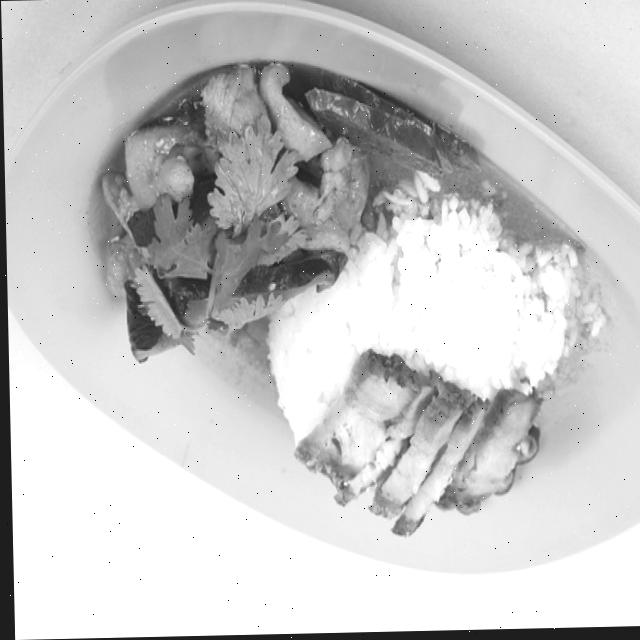米饭主食: (117, 103, 592, 535)
